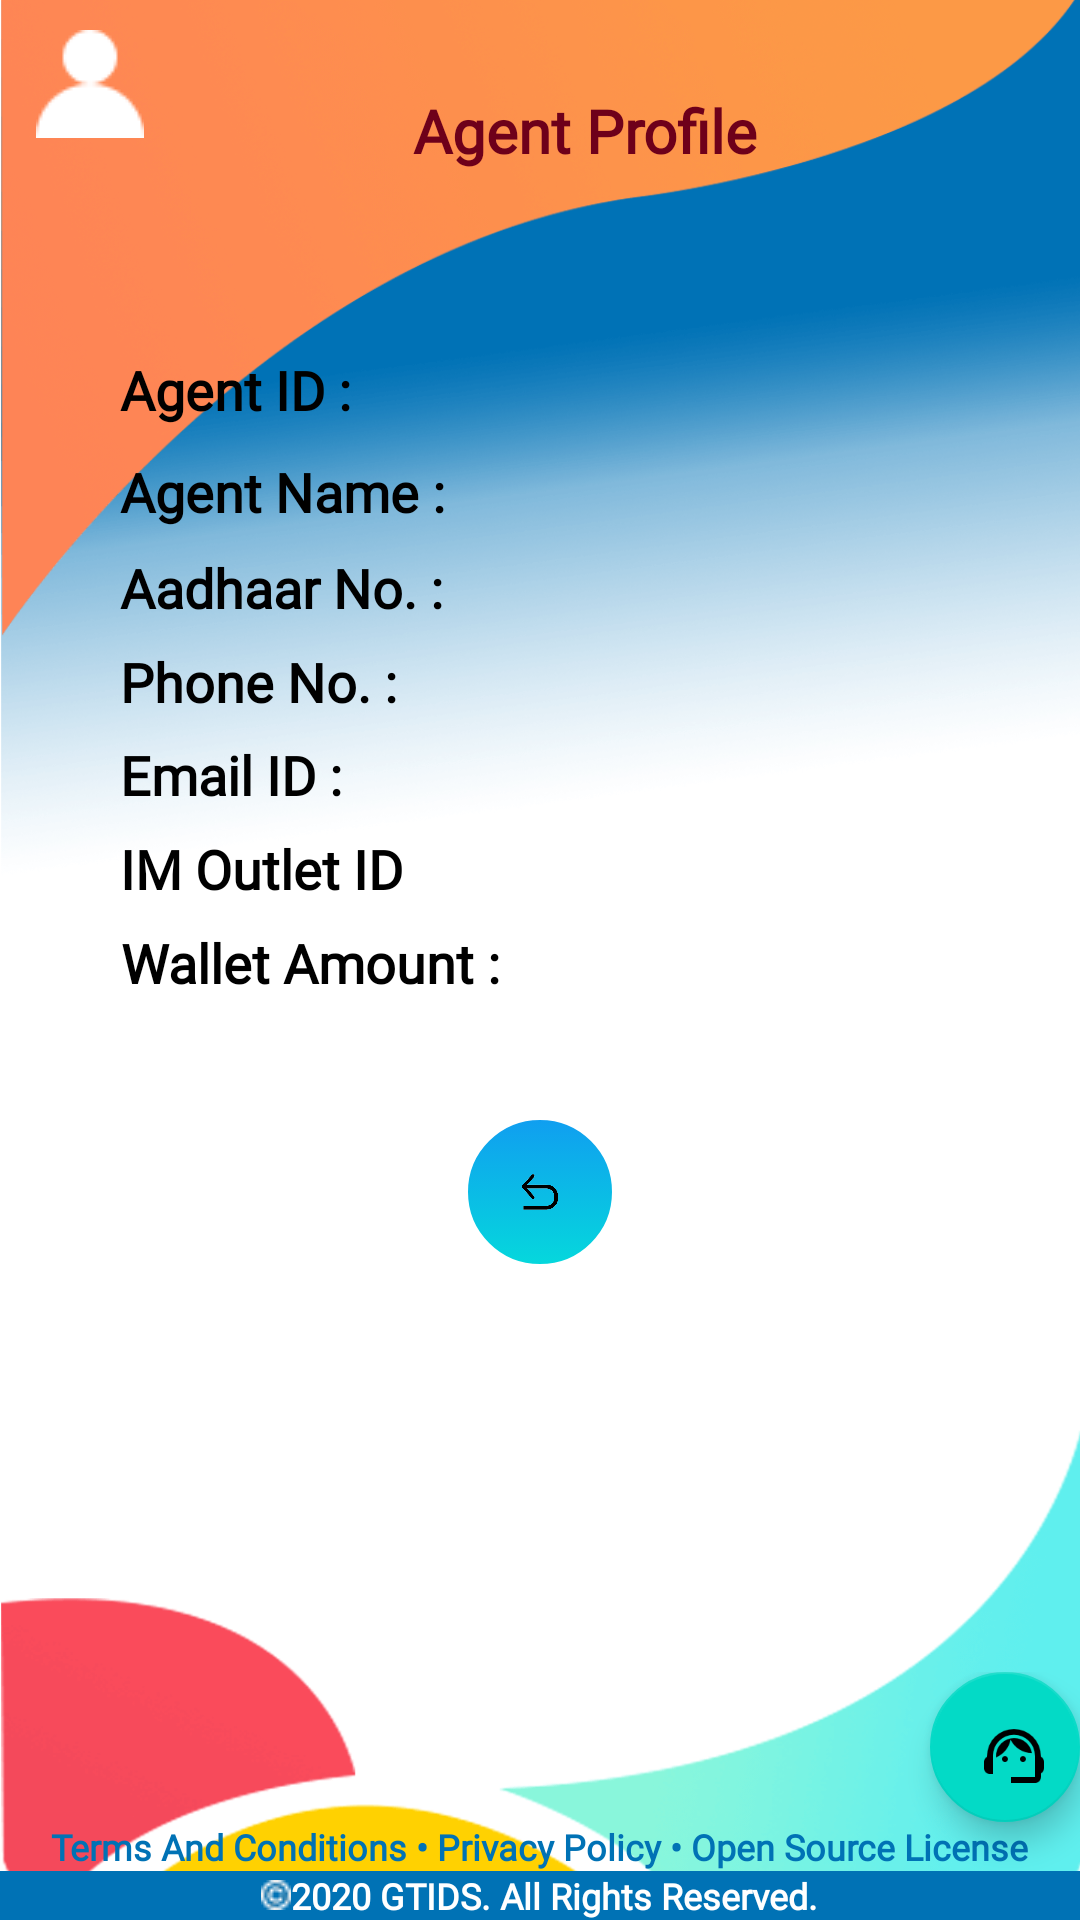

Icons on this 1080px x 1920px Android screen, each with the point to tap as [x,y]:
backarrow: [540,1192]
copyright: [276,1895]
support: [1005,1747]
